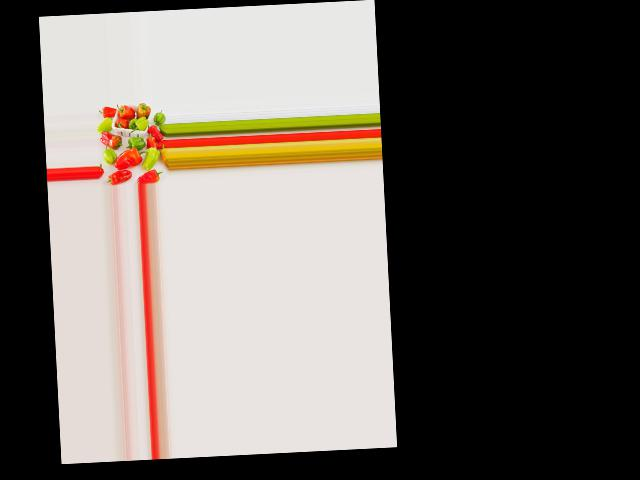bell_pepper: (140, 167, 164, 184)
